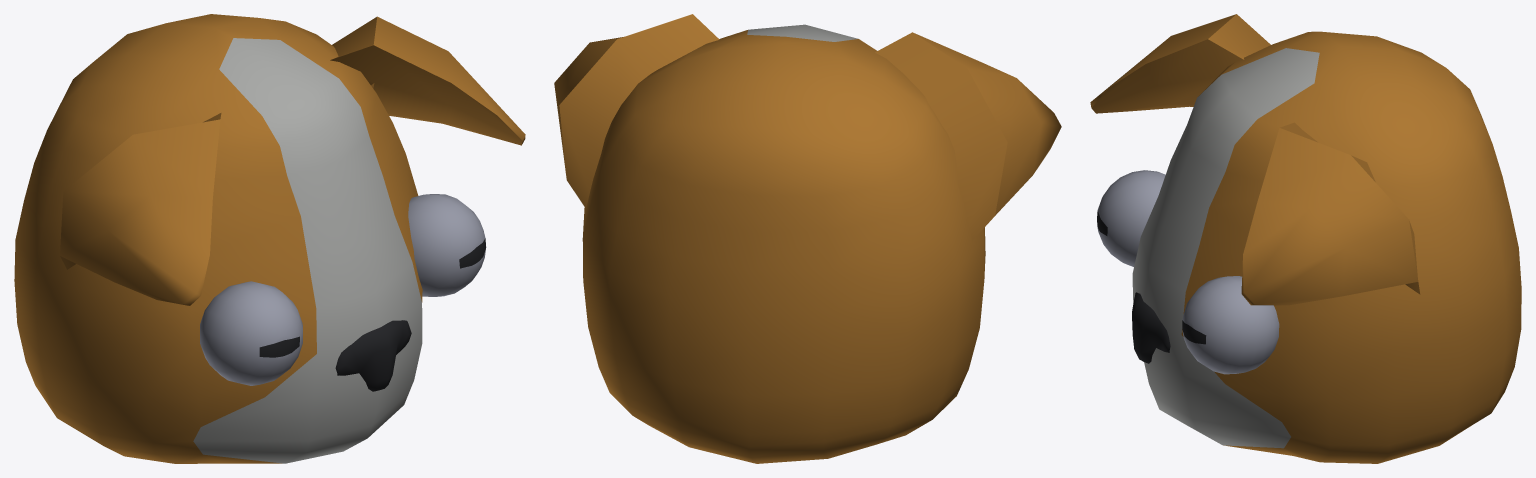
Rendered from Dog_Blob.fbx.
The picture shows the model from 3 angles, left to right: view 1: azimuth 30°, elevation 25°; view 2: azimuth 150°, elevation 25°; view 3: azimuth 270°, elevation 25°; orthographic projection. The views are drawn at different scales.
Parts seen in each view (by area): view 1: Dog_Blob; view 2: Dog_Blob; view 3: Dog_Blob.
Boxes of the visible parts, x1,y1,x2,y2 form: Dog_Blob: (14,14,525,463); Dog_Blob: (554,14,1061,463); Dog_Blob: (1090,14,1521,463).
Bounding box in the file's own units: 165 × 139 × 142.
